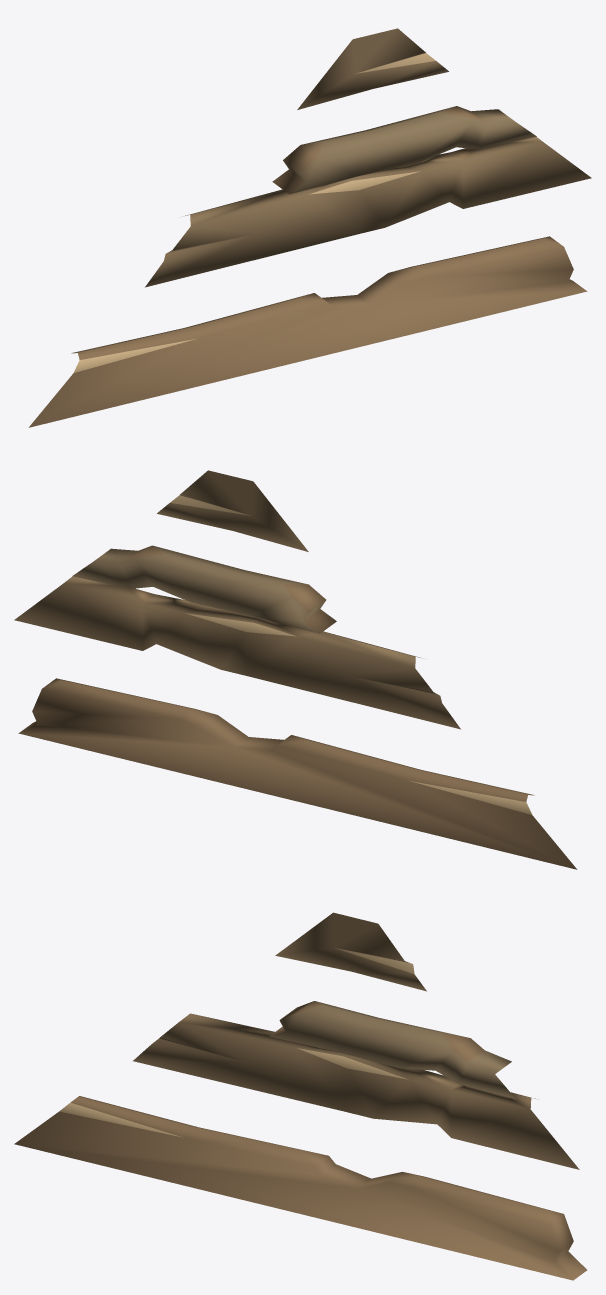
File: rpgpp_av_roof_end_01_6x3_wall_01b.gltf
3 renders of one model, top to bottom at view 1: azimuth 30°, elevation 25°; view 2: azimuth 150°, elevation 25°; view 3: azimuth 330°, elevation 25°, orthographic.
Visible parts, largest first — view 1: rpgpp_av_roof_end_01_6x3_wall_01b; view 2: rpgpp_av_roof_end_01_6x3_wall_01b; view 3: rpgpp_av_roof_end_01_6x3_wall_01b.
Boxes of the visible parts, x1,y1,x2,y2 form: rpgpp_av_roof_end_01_6x3_wall_01b: (28, 28, 591, 427); rpgpp_av_roof_end_01_6x3_wall_01b: (14, 470, 577, 869); rpgpp_av_roof_end_01_6x3_wall_01b: (14, 912, 587, 1280).
Size of the model in its own units: 0.0567 by 0.0296 by 0.00383.
1 material, 1 textured.
